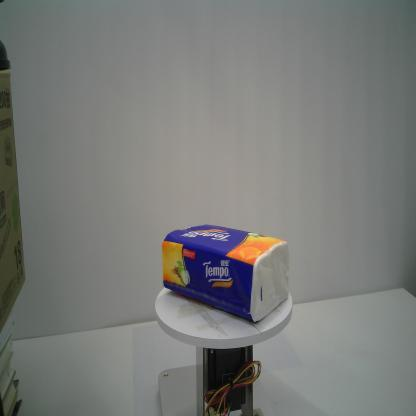Tissue: (161, 222, 290, 324)
